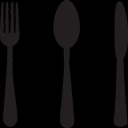fork: (1, 1, 28, 126)
